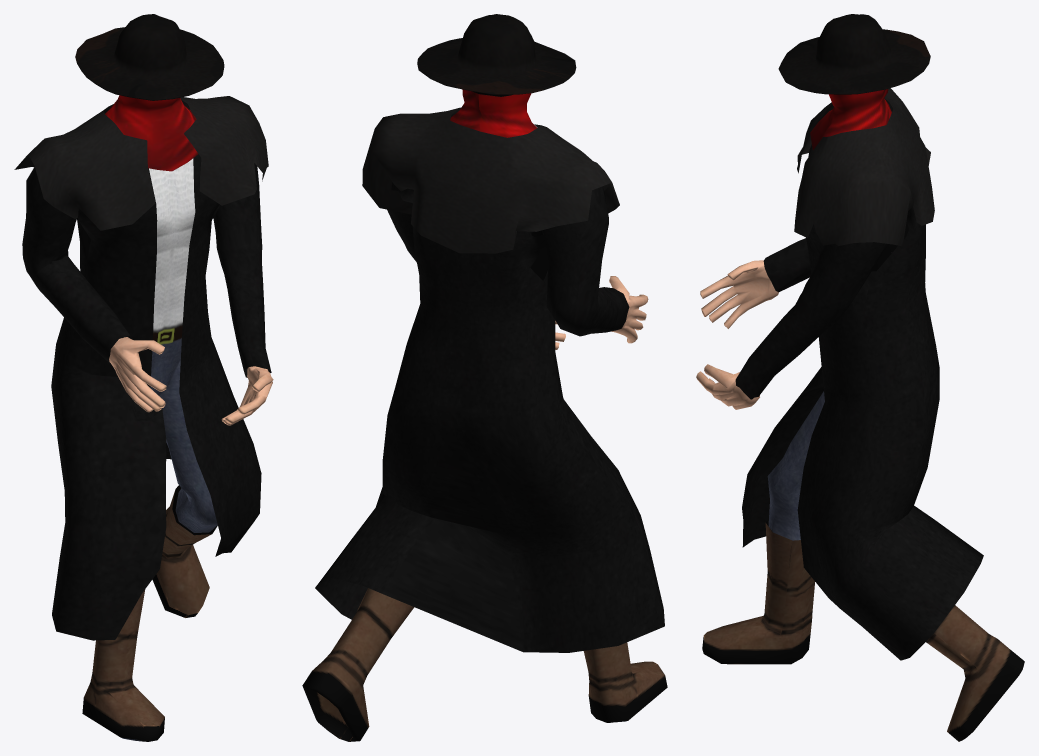
The model's file is U_shoot_3.obj.
3 views of the same model, side by side, from view 1: azimuth 30°, elevation 25°; view 2: azimuth 150°, elevation 25°; view 3: azimuth 270°, elevation 25° (orthographic). The views are drawn at different scales.
Parts seen in each view (by area): view 1: Undertaker_4:Undertaker_4:Undertaker; view 2: Undertaker_4:Undertaker_4:Undertaker; view 3: Undertaker_4:Undertaker_4:Undertaker.
Part boxes in pixels (x1=…): Undertaker_4:Undertaker_4:Undertaker: x1=14, y1=14, x2=273, y2=741; Undertaker_4:Undertaker_4:Undertaker: x1=302, y1=14, x2=667, y2=741; Undertaker_4:Undertaker_4:Undertaker: x1=696, y1=14, x2=1024, y2=741.
Size of the model in its own units: 1.14 by 2.78 by 1.23.
1 material, 1 textured.
